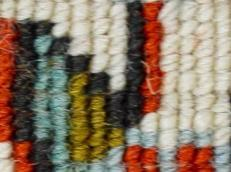Knot: (84, 96, 105, 111), (11, 144, 29, 156), (125, 50, 142, 62), (125, 60, 141, 71), (15, 129, 29, 141), (34, 162, 52, 171), (13, 162, 28, 171)
